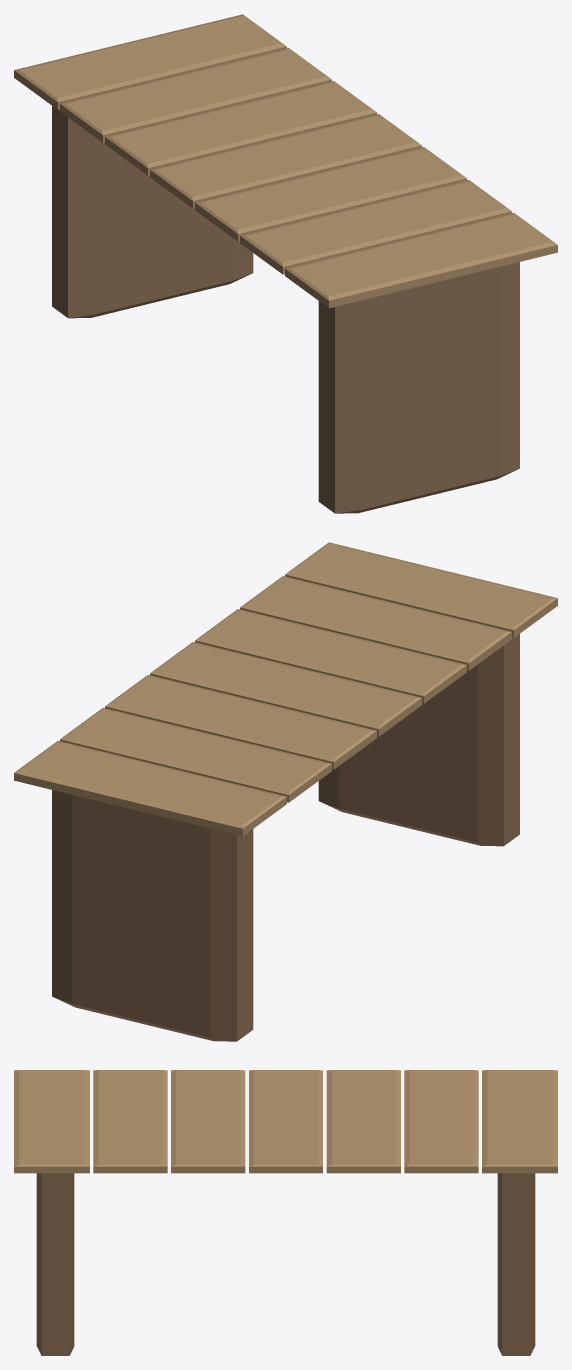
Rendered from Chair.fbx.
3 views of the same model, one above another, from view 1: azimuth 30°, elevation 25°; view 2: azimuth 150°, elevation 25°; view 3: azimuth 270°, elevation 25° (orthographic). The views are drawn at different scales.
Parts seen in each view (by area): view 1: Plane.035; view 2: Plane.035; view 3: Plane.035.
Part boxes in pixels (<box>): Plane.035: <box>14,14,557,513</box>; Plane.035: <box>14,542,557,1041</box>; Plane.035: <box>14,1070,557,1355</box>.
Size of the model in its own units: 200 by 198 by 477.
